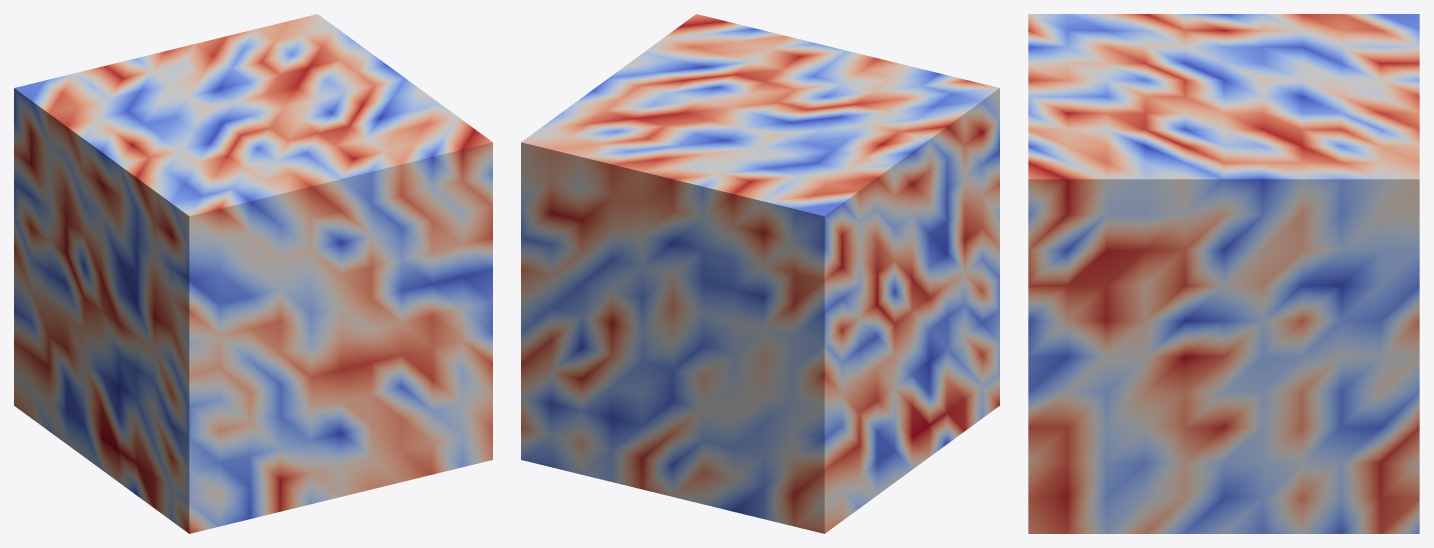
Rendered from VtuToGLTF.gltf.
3 views of the same model, side by side, from view 1: azimuth 30°, elevation 25°; view 2: azimuth 150°, elevation 25°; view 3: azimuth 270°, elevation 25° (orthographic). The views are drawn at different scales.
Visible parts, largest first — view 1: Renderer Node; view 2: Renderer Node; view 3: Renderer Node.
Boxes of the visible parts, bbox=[...] form: Renderer Node: bbox=[14, 14, 492, 533]; Renderer Node: bbox=[521, 14, 999, 533]; Renderer Node: bbox=[1028, 14, 1419, 533].
Size of the model in its own units: 10 by 10 by 10.
Materials: 1 (1 with a texture image).
